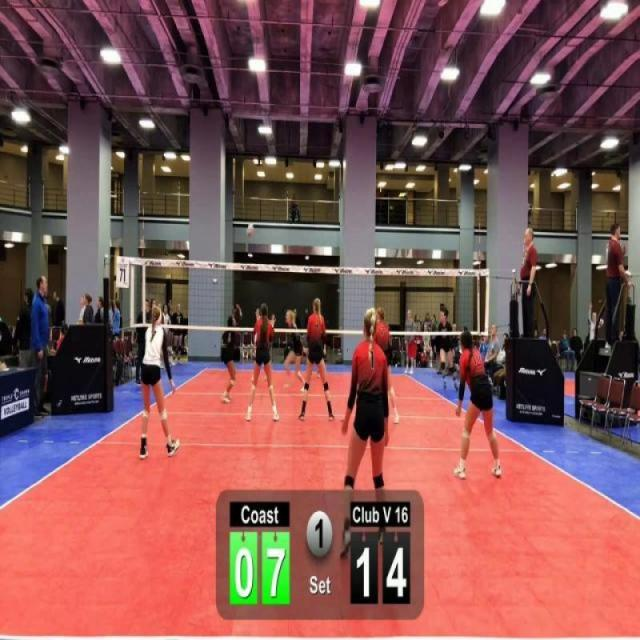volleyball: (246, 224, 254, 239)
